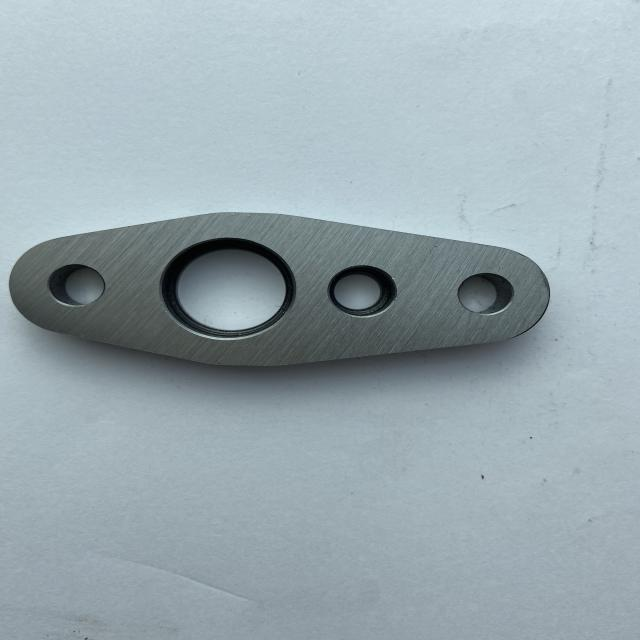chap: (229, 212, 253, 218), (390, 276, 398, 281)
